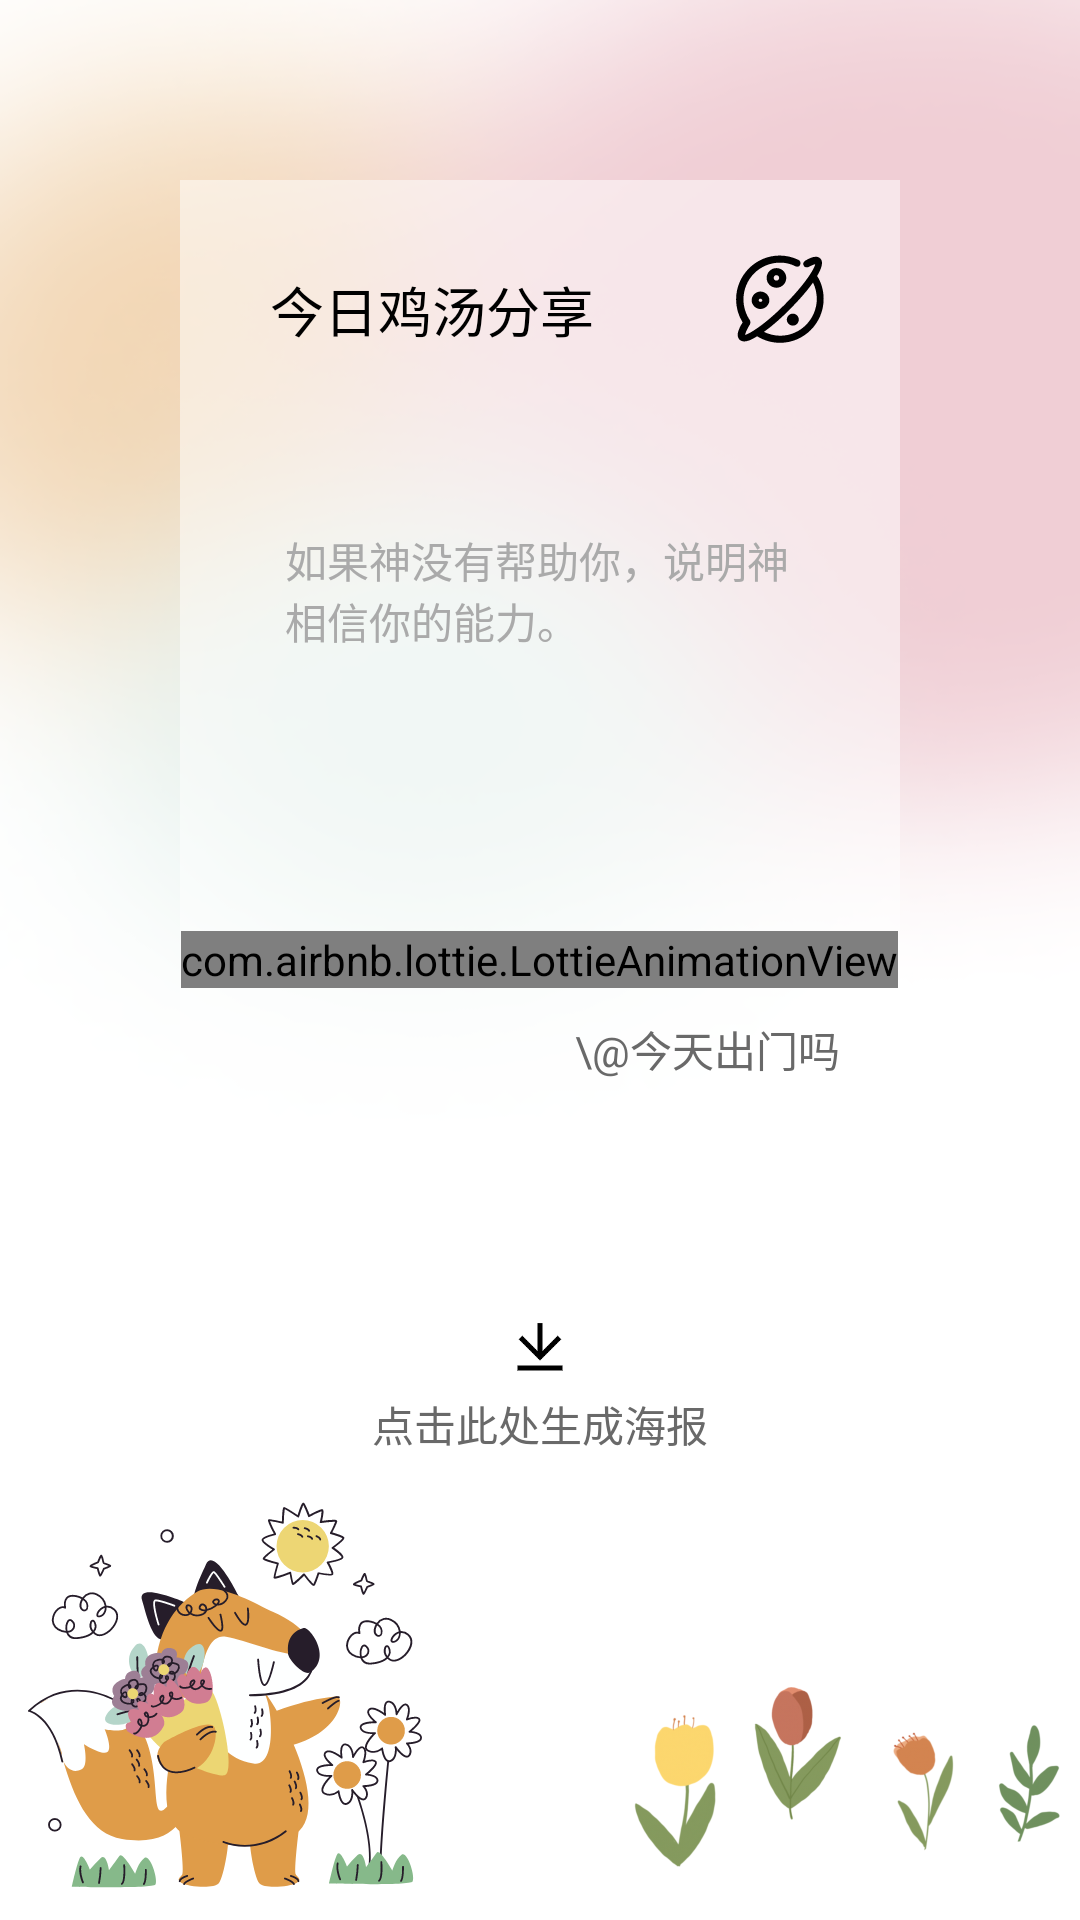

Named icons in this screenshot (1080px×1920px) and their centers, point (x, y):
download: point (540, 1347)
xingzuo: point (780, 299)
